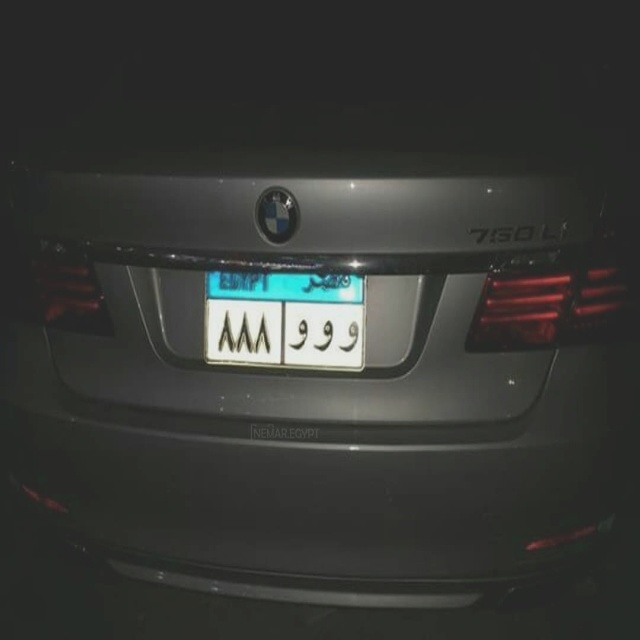License Plate: (199, 262, 370, 376)
